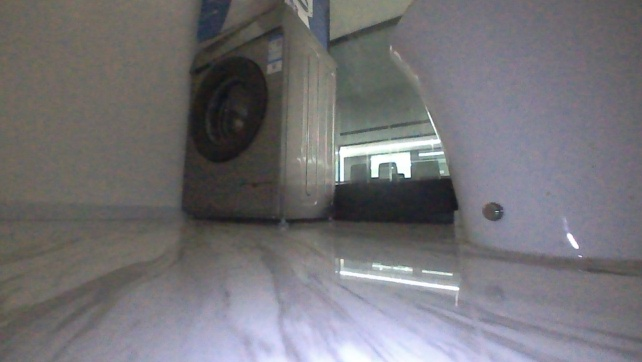toilet: (385, 0, 641, 270)
washing_machine: (176, 0, 339, 227)
